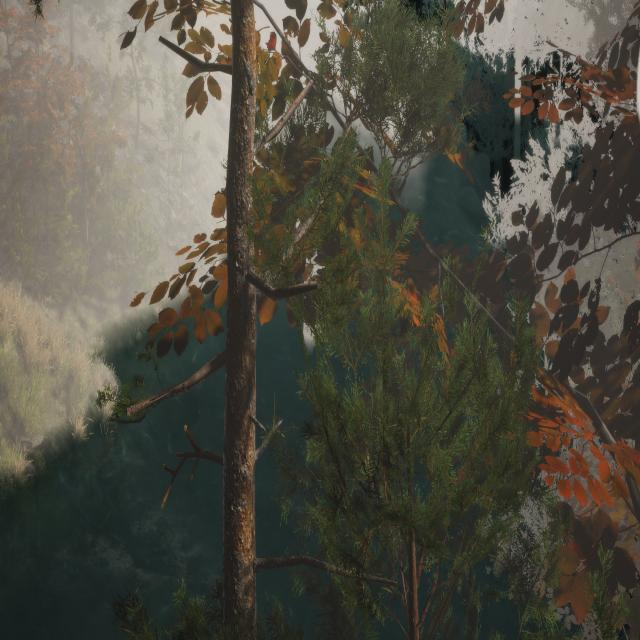Human: (302, 245, 318, 362)
